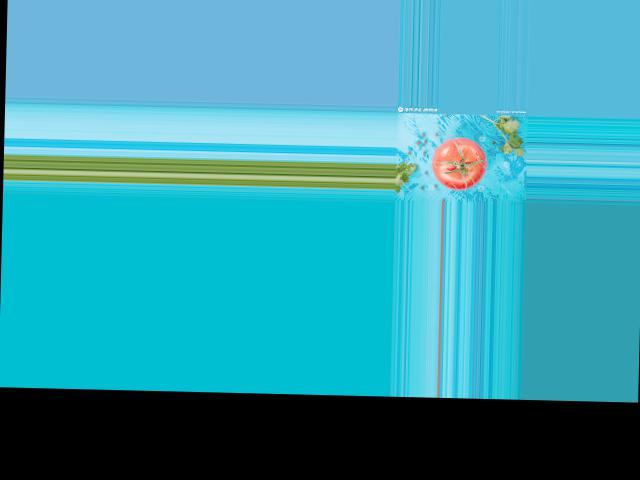tomato: (431, 136, 488, 190)
